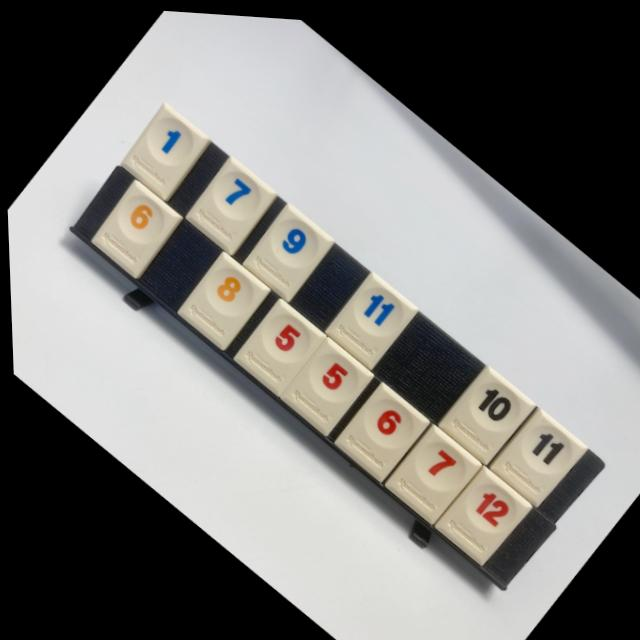black_10: (435, 360, 532, 458)
black_11: (486, 401, 584, 499)
blue_1: (120, 101, 209, 199)
blue_11: (322, 267, 416, 365)
blue_7: (184, 154, 275, 252)
blue_9: (240, 200, 332, 298)
orange_6: (89, 178, 181, 277)
orange_8: (175, 249, 267, 348)
red_12: (430, 460, 528, 559)
red_5: (277, 333, 371, 431), (231, 295, 323, 393)
red_6: (331, 377, 427, 477)
red_7: (381, 419, 478, 519)
